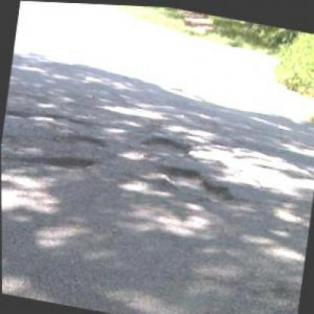Hueco: (159, 159, 236, 203), (46, 147, 98, 176), (141, 130, 194, 154)
